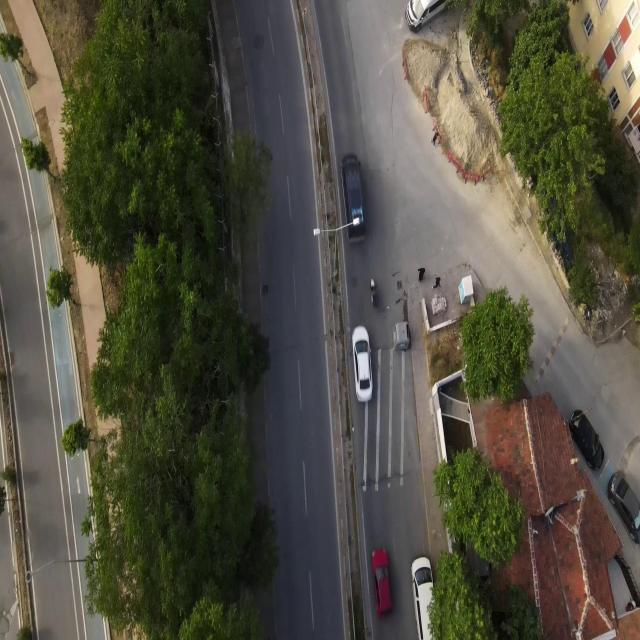p3rson: (430, 132, 438, 148), (432, 277, 441, 289), (417, 268, 425, 281)
